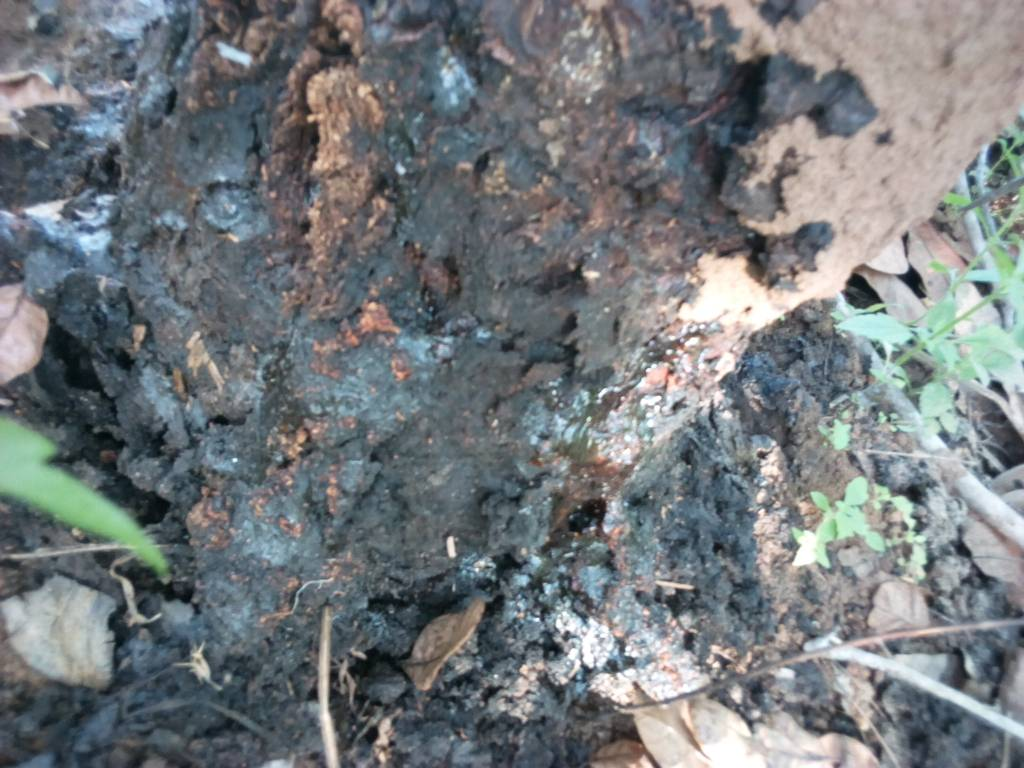Gommose: (123, 16, 744, 661)
